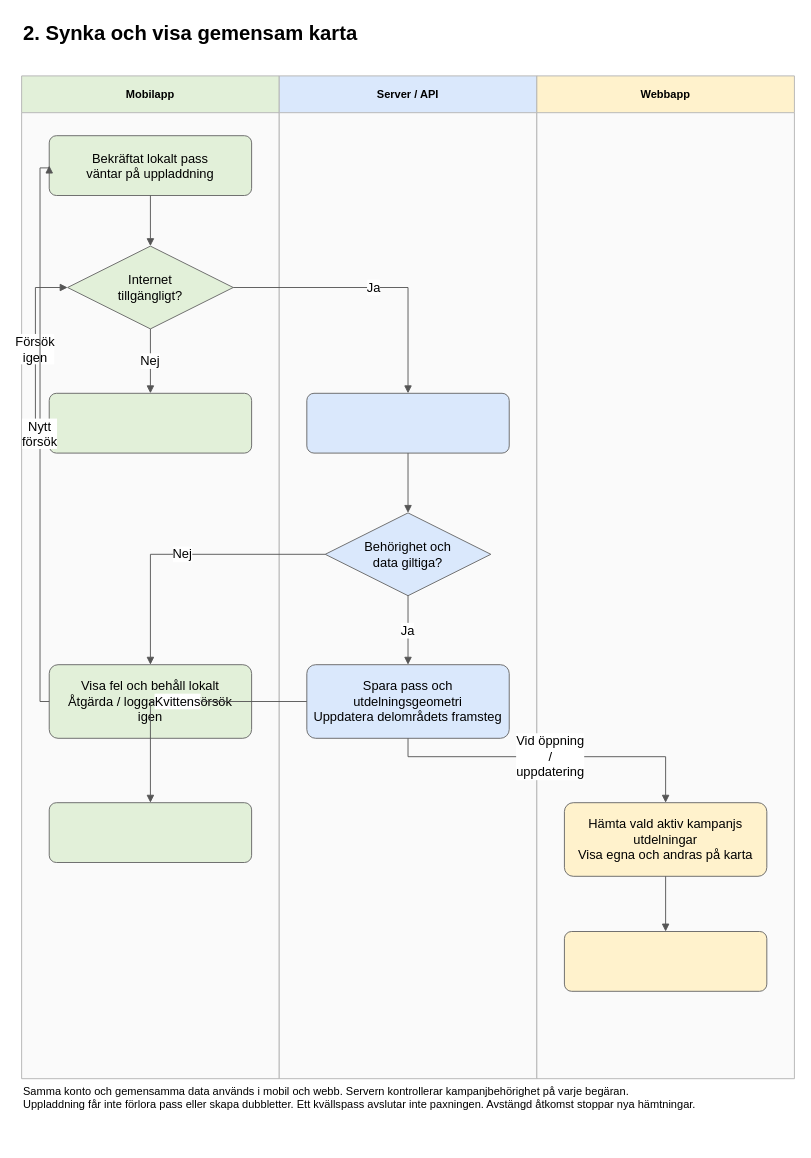
Image size: 811x1158. Some labels were removed from this diagram. Each missing label, with the centre of its shape:
Behåll passet lokalt Försök igen när nät finns: point 150,422
Filtrera kampanj och datum Visa prioritet, paxning och framsteg: point 665,961
Ta emot kvittens Status: uppladdat: point 150,832
Ta emot uppladdning Unikt pass-ID förhindrar dubblett: point 407,422
